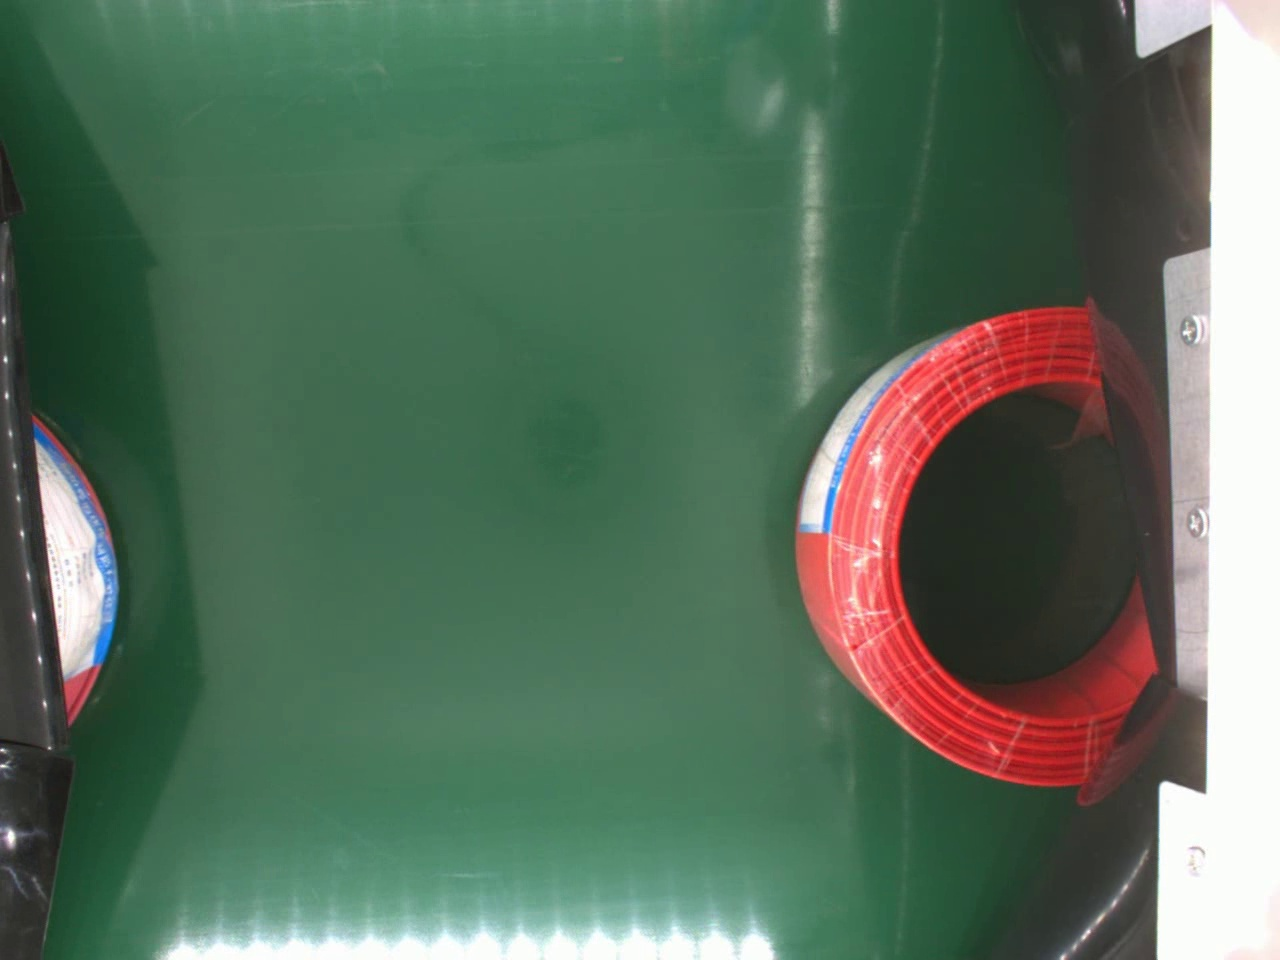red: (790, 302, 1144, 790)
